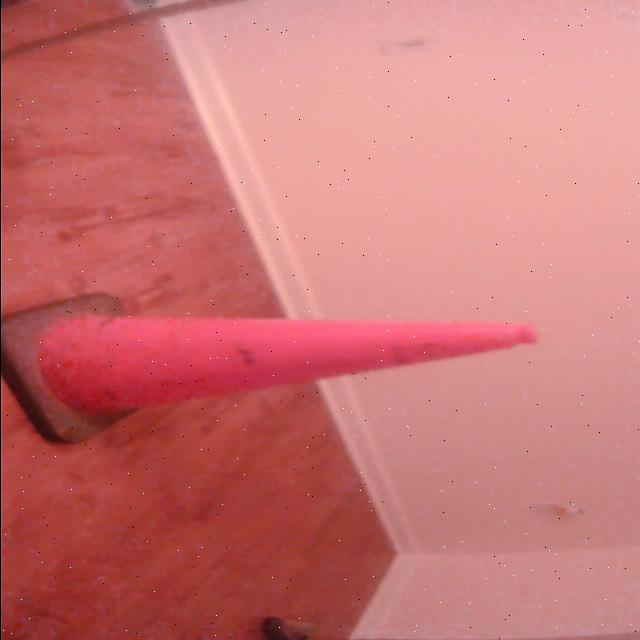traffic cone: (1, 288, 549, 450)
